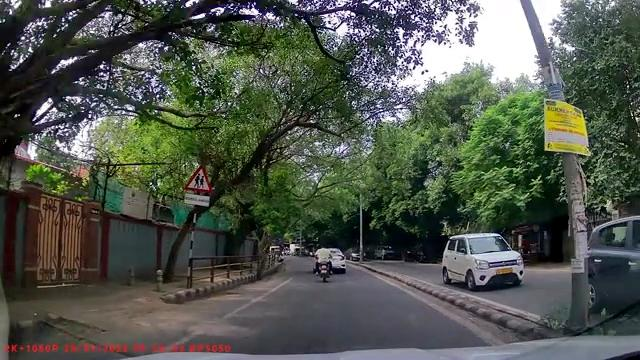motorcycle_without_helmet: (314, 240, 333, 283)
